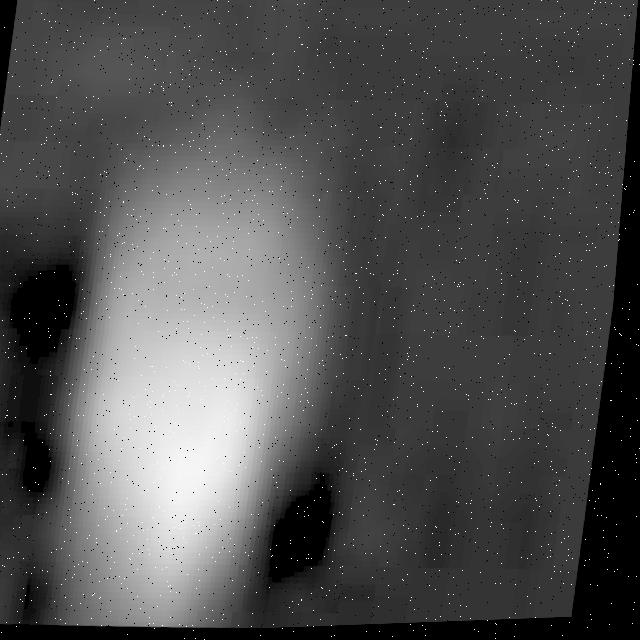person: (26, 130, 351, 639)
